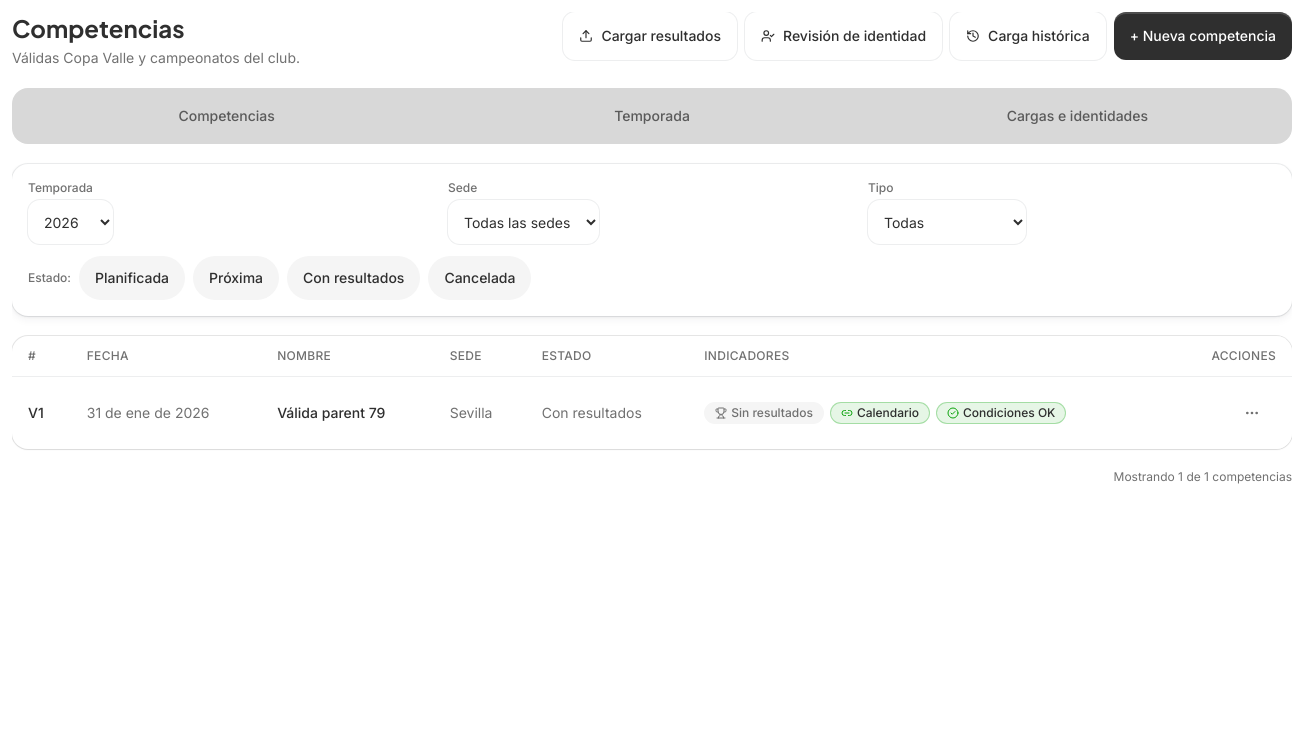
Scenario: CompetitionsListPage — cleanup duplicado (feature 009) › parent: nunca ve 'Eliminar duplicado' aunque la válida no tenga resultados
The width and height of the screenshot is (1304, 732).
expect the link "Válida parent 79" is shown: met, box [277, 404, 385, 421]
Step 1. Click the button named "Acciones para Válida parent 79" → (1252,413), box [1228, 389, 1276, 437]
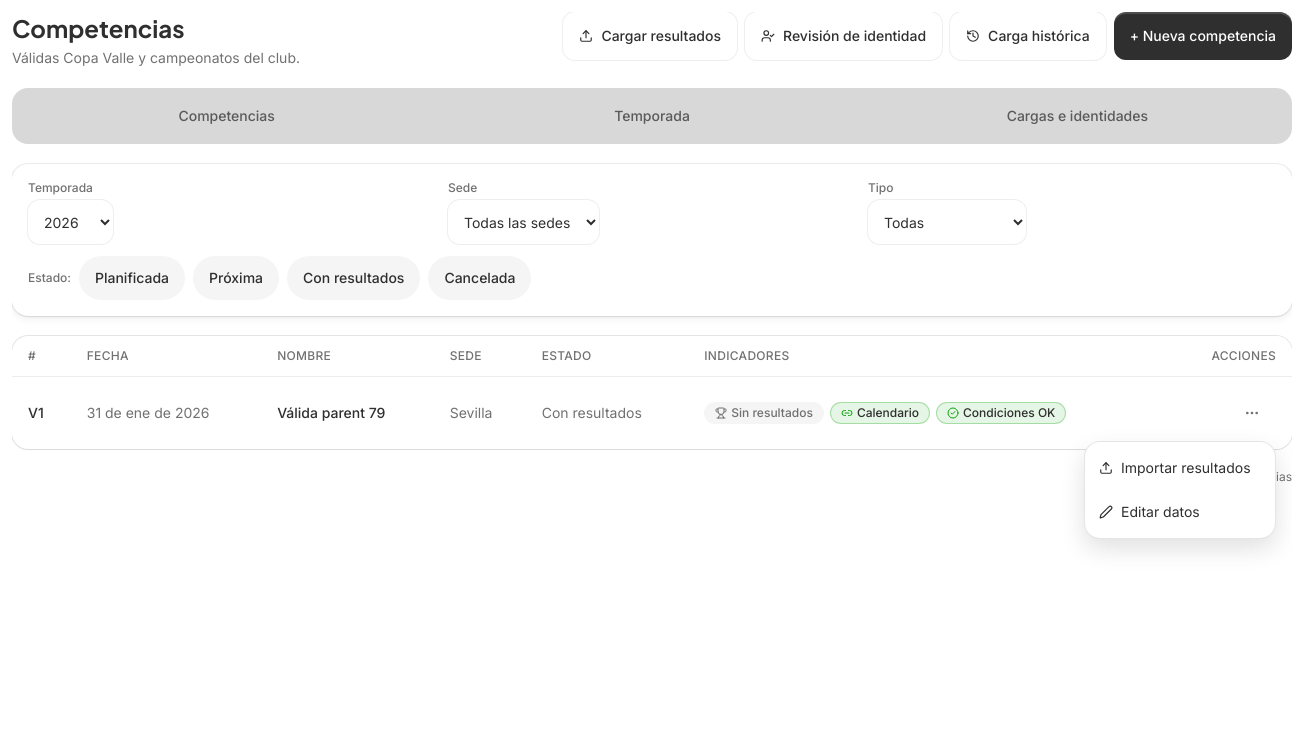
expect the menu item "Editar datos" is shown: met, box [1099, 503, 1200, 520]
